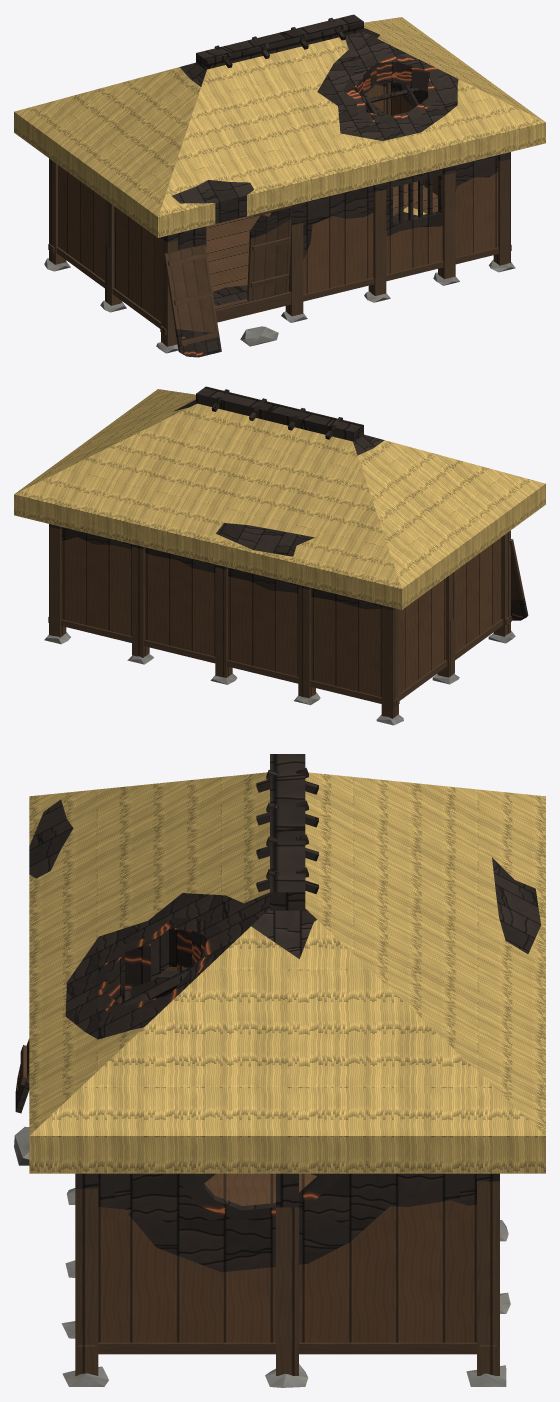
Rendered from oni_house_c.fbx.
3 views of the same model, one above another, from view 1: azimuth 30°, elevation 25°; view 2: azimuth 150°, elevation 25°; view 3: azimuth 270°, elevation 25° (orthographic). The views are drawn at different scales.
Parts seen in each view (by area): view 1: oni_house_c_Roof, oni_house_c_Walls, oni_house_c_Frame, oni_house_c_Debris, oni_house_c_Floor, oni_house_c_Stone; view 2: oni_house_c_Roof, oni_house_c_Walls, oni_house_c_Frame, oni_house_c_Stone, oni_house_c_Debris; view 3: oni_house_c_Roof, oni_house_c_Walls, oni_house_c_Frame, oni_house_c_Stone, oni_house_c_Floor, oni_house_c_Debris.
Part boxes in pixels (x1=…): oni_house_c_Roof: x1=14, y1=14, x2=545, y2=237; oni_house_c_Walls: x1=58, y1=82, x2=498, y2=321; oni_house_c_Frame: x1=48, y1=83, x2=511, y2=346; oni_house_c_Debris: x1=163, y1=205, x2=426, y2=357; oni_house_c_Floor: x1=206, y1=181, x2=437, y2=306; oni_house_c_Stone: x1=44, y1=258, x2=515, y2=353; oni_house_c_Roof: x1=14, y1=386, x2=545, y2=609; oni_house_c_Walls: x1=61, y1=527, x2=501, y2=697; oni_house_c_Frame: x1=48, y1=524, x2=511, y2=718; oni_house_c_Stone: x1=44, y1=630, x2=515, y2=725; oni_house_c_Debris: x1=509, y1=539, x2=528, y2=620; oni_house_c_Roof: x1=29, y1=754, x2=545, y2=1173; oni_house_c_Walls: x1=98, y1=966, x2=476, y2=1342; oni_house_c_Frame: x1=75, y1=970, x2=499, y2=1375; oni_house_c_Stone: x1=14, y1=1126, x2=510, y2=1387; oni_house_c_Floor: x1=204, y1=1173, x2=316, y2=1205; oni_house_c_Debris: x1=15, y1=1038, x2=29, y2=1113.
Bounding box in the file's own units: 28 × 15.91 × 18.53.
Materials: 1 (1 with a texture image).
